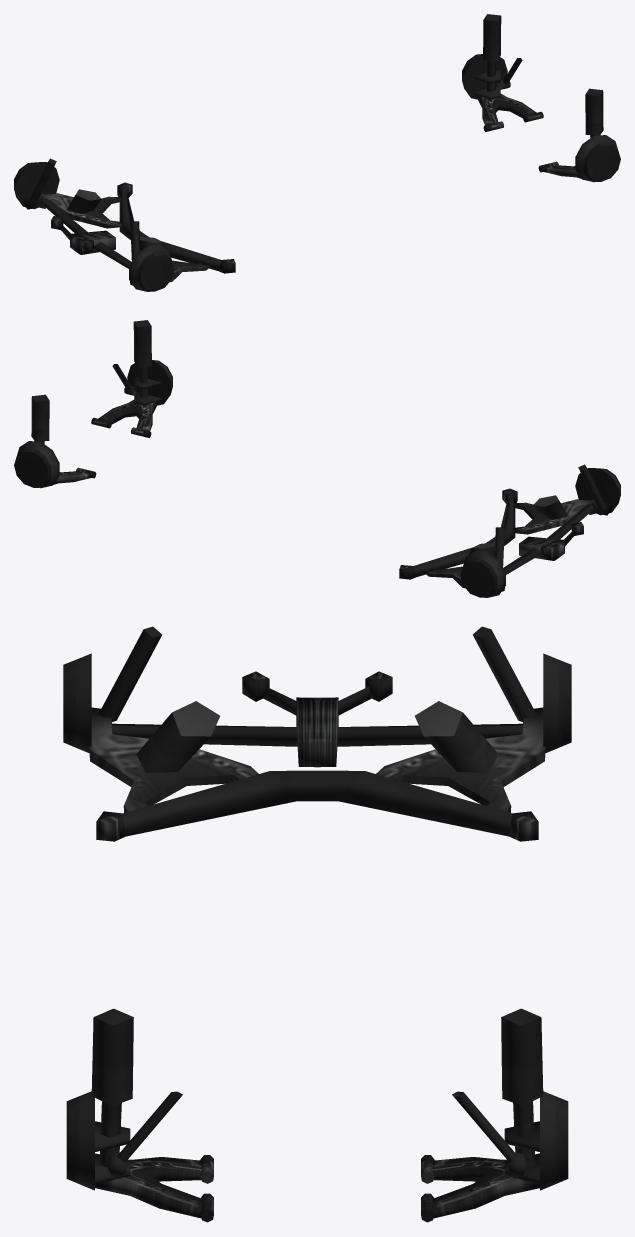
The model's file is gallo99_suspension_ucb_bottom_lt_0.001_lev3.glb.
The picture shows the model from 3 angles, top to bottom: view 1: azimuth 30°, elevation 25°; view 2: azimuth 150°, elevation 25°; view 3: azimuth 270°, elevation 25°; orthographic projection. The views are drawn at different scales.
Parts seen in each view (by area): view 1: gallo99_suspension_ucb_bottom_lt_0.001_lev3; view 2: gallo99_suspension_ucb_bottom_lt_0.001_lev3; view 3: gallo99_suspension_ucb_bottom_lt_0.001_lev3.
Boxes of the visible parts, left/top/right/bottom form: gallo99_suspension_ucb_bottom_lt_0.001_lev3: left=14, top=14, right=620, bottom=291; gallo99_suspension_ucb_bottom_lt_0.001_lev3: left=14, top=320, right=620, bottom=597; gallo99_suspension_ucb_bottom_lt_0.001_lev3: left=63, top=626, right=571, bottom=1222.
Bounding box in the file's own units: 3.08 × 0.5248 × 1.35.
Materials: 1 (1 with a texture image).
